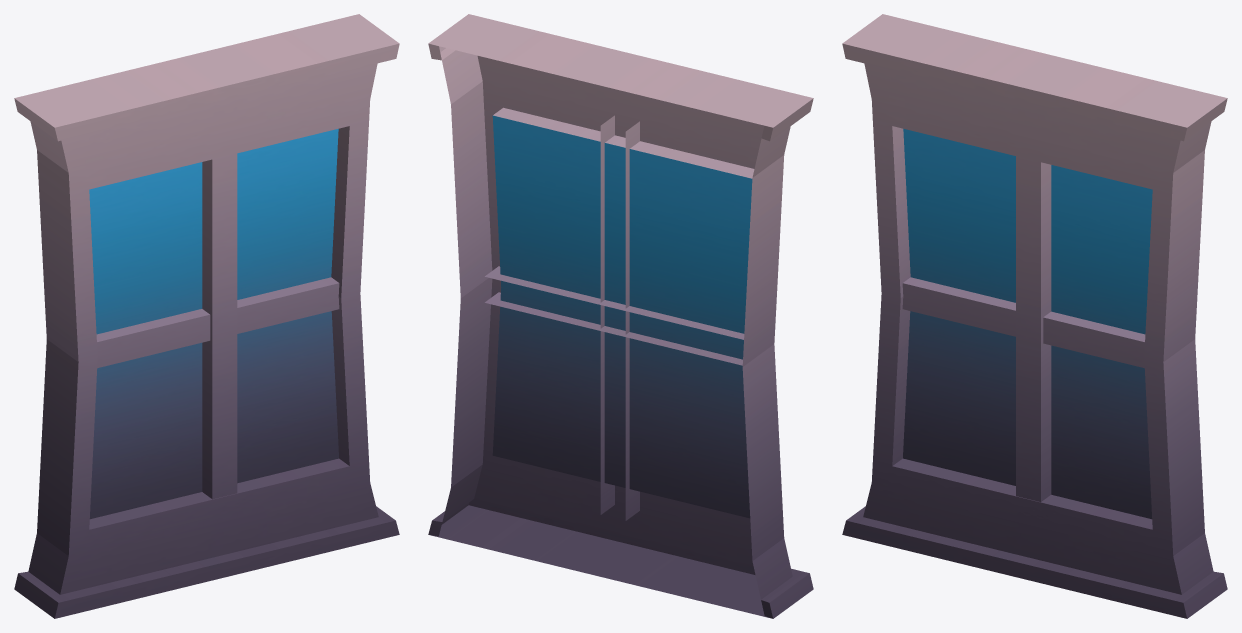
Rendered from Window 1.fbx.
3 views of the same model, side by side, from view 1: azimuth 30°, elevation 25°; view 2: azimuth 150°, elevation 25°; view 3: azimuth 330°, elevation 25° (orthographic).
Parts seen in each view (by area): view 1: Window 1; view 2: Window 1; view 3: Window 1.
Boxes of the visible parts, box(x1,y1,x2,y2) form: Window 1: box(14, 14, 399, 618); Window 1: box(428, 14, 813, 618); Window 1: box(842, 14, 1227, 618).
Bounding box in the file's own units: 85.02 × 116 × 17.27.
